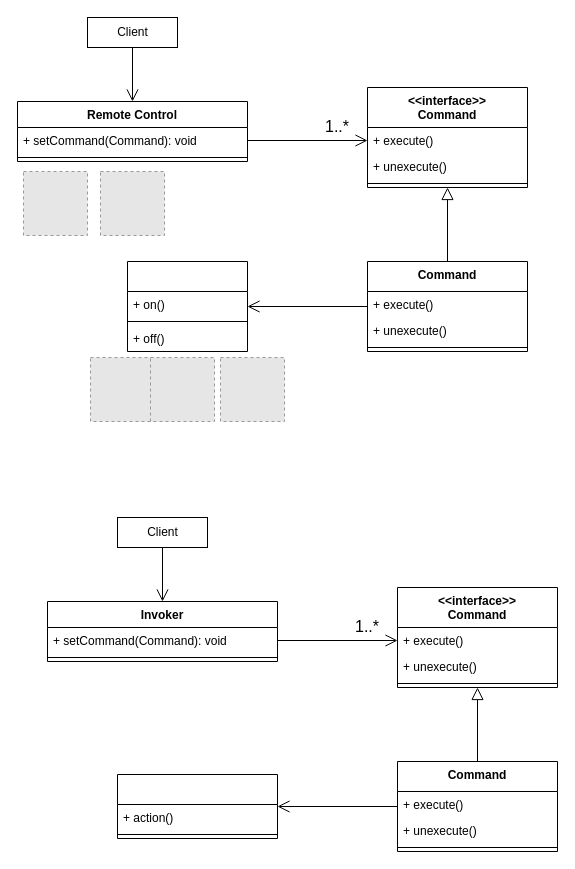
Some shapes in this 575 by 869 pixel diagram are drawn without their labels. Grey dashed boxes stand in for pictures. The shapes that lost their labels are listed below. From the top down, each one's box as (x1, y1, x2, y2) in pixels, then its label:
(126, 260, 248, 352): Light
(116, 774, 278, 838): Receiver
